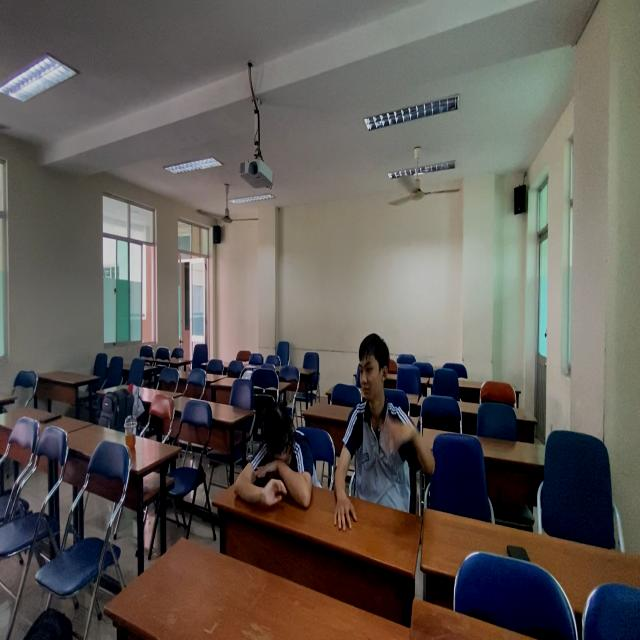sleep: (229, 396, 323, 522)
